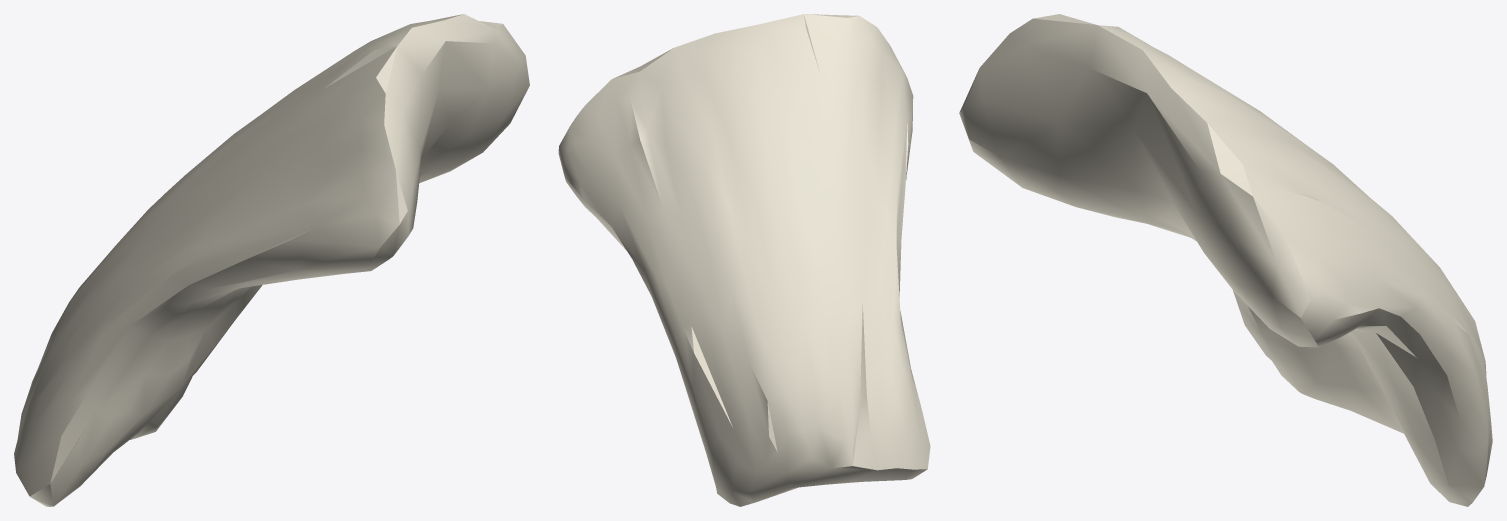
File: fma76858-r_mm1401m.glb
3 views of the same model, side by side, from view 1: azimuth 30°, elevation 25°; view 2: azimuth 150°, elevation 25°; view 3: azimuth 270°, elevation 25° (orthographic). The views are drawn at different scales.
Visible parts, largest first — view 1: FMA76858-R_MM1401M; view 2: FMA76858-R_MM1401M; view 3: FMA76858-R_MM1401M.
Boxes of the visible parts, bbox=[...] form: FMA76858-R_MM1401M: bbox=[14, 14, 529, 506]; FMA76858-R_MM1401M: bbox=[558, 14, 930, 506]; FMA76858-R_MM1401M: bbox=[959, 14, 1492, 506].
Bounding box in the file's own units: 0.0206 × 0.0199 × 0.0184.
